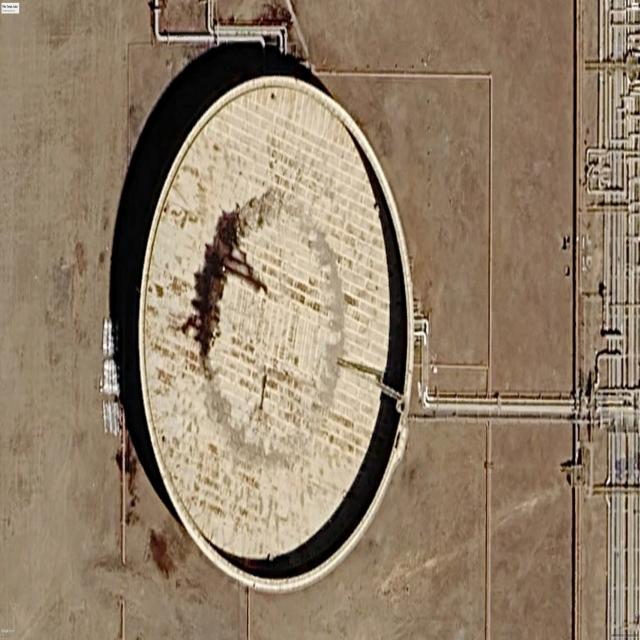Oil Rafinery: (127, 74, 413, 591)
